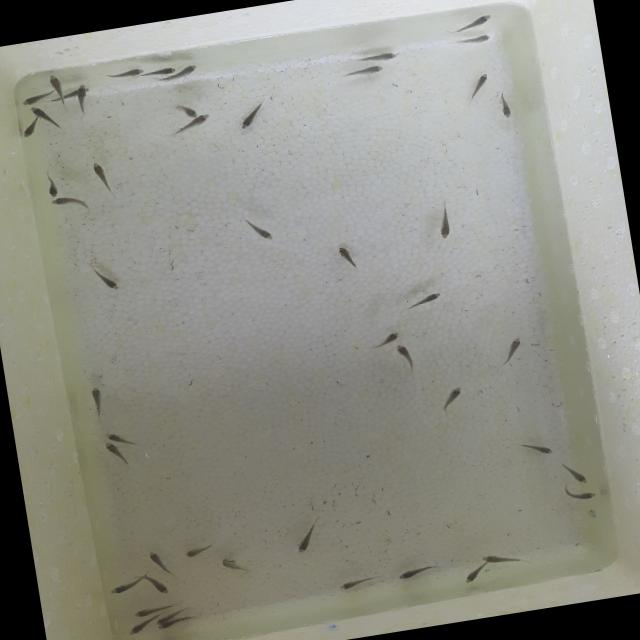fingerling: (290, 516, 328, 558), (234, 95, 272, 132), (239, 208, 276, 245), (392, 559, 446, 584), (446, 11, 498, 36), (461, 69, 494, 108), (514, 434, 559, 462), (398, 290, 446, 315), (495, 334, 527, 371), (436, 382, 469, 416), (174, 113, 217, 139), (432, 200, 458, 243), (360, 328, 406, 352), (335, 572, 384, 594), (88, 158, 116, 196), (391, 340, 422, 374), (481, 547, 530, 568), (560, 456, 592, 488), (96, 64, 146, 84), (350, 48, 400, 68), (342, 62, 391, 82), (448, 32, 496, 52), (180, 539, 224, 560), (36, 167, 64, 200), (219, 554, 257, 578), (562, 482, 600, 506), (49, 194, 86, 216), (95, 266, 123, 295), (335, 243, 361, 274), (132, 602, 182, 618), (494, 89, 516, 123), (168, 99, 200, 122), (105, 580, 142, 599), (72, 82, 92, 117), (147, 574, 176, 598), (29, 102, 58, 126), (120, 620, 153, 640), (459, 566, 488, 588), (144, 544, 168, 570), (108, 434, 140, 453), (157, 615, 195, 631), (104, 443, 130, 466), (16, 91, 49, 108), (48, 74, 66, 103), (20, 120, 42, 142), (146, 65, 178, 78), (170, 64, 199, 78), (92, 389, 107, 416)
